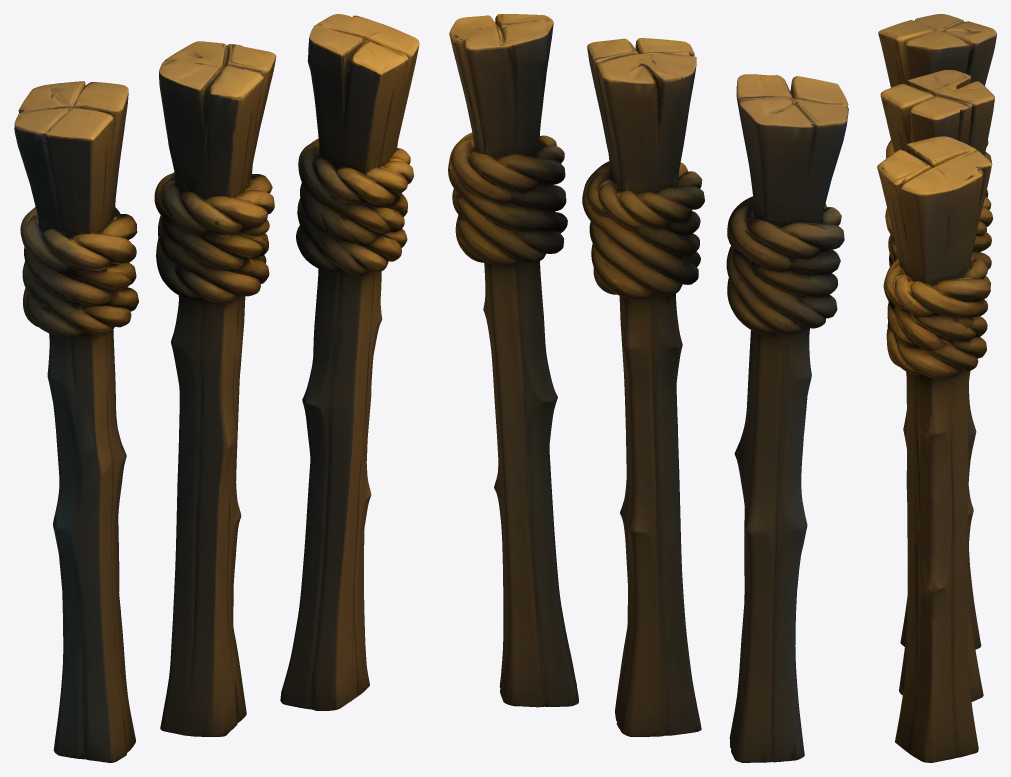
The model's file is stakes.opt.glb.
The picture shows the model from 3 angles, left to right: view 1: azimuth 30°, elevation 25°; view 2: azimuth 150°, elevation 25°; view 3: azimuth 270°, elevation 25°; orthographic projection. The views are drawn at different scales.
Visible parts, largest first — view 1: node_0; view 2: node_0; view 3: node_0.
Boxes of the visible parts, x1=… form: node_0: x1=14, y1=14, x2=419, y2=762; node_0: x1=448, y1=14, x2=848, y2=762; node_0: x1=877, y1=14, x2=996, y2=762.
Bounding box in the file's own units: 0.6591 × 1.05 × 0.1873.
1 material, 1 textured.
